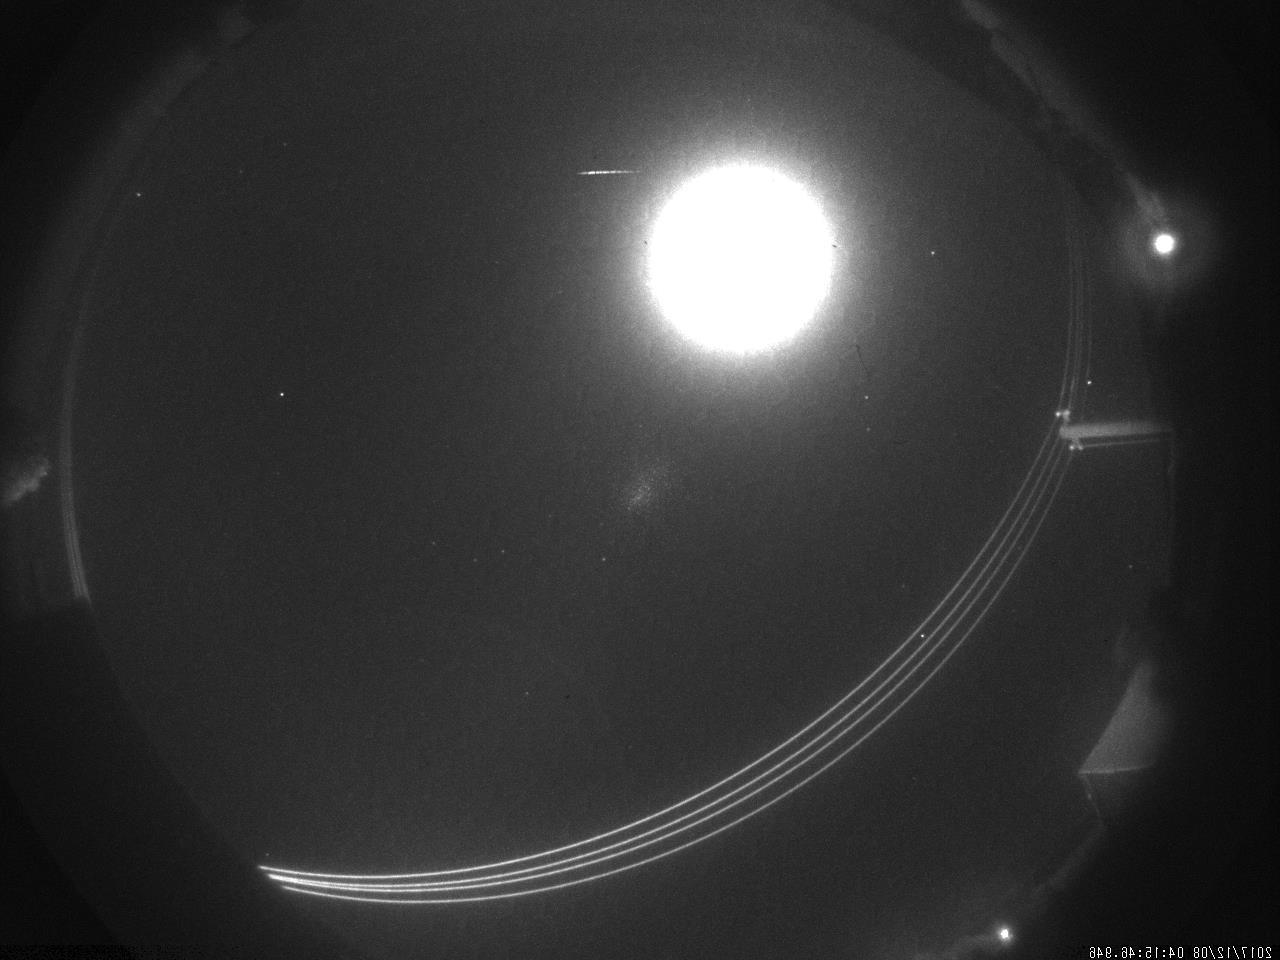meteor: (570, 155, 640, 183)
